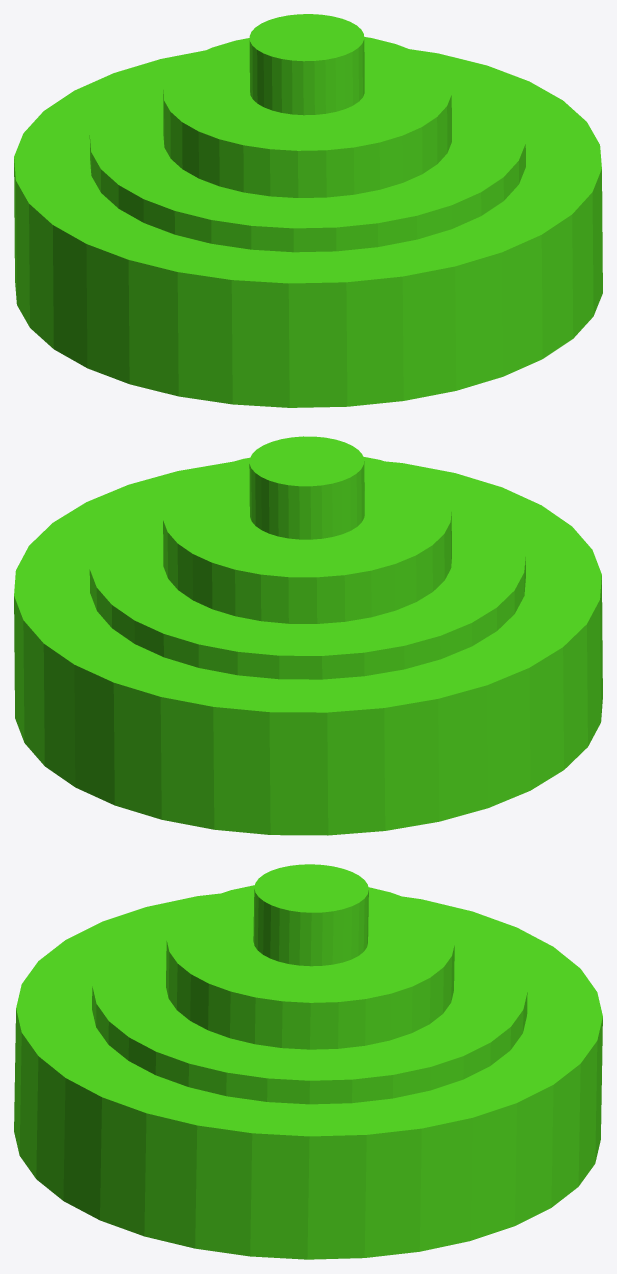
The model's file is Diana.fbx.
The picture shows the model from 3 angles, top to bottom: view 1: azimuth 30°, elevation 25°; view 2: azimuth 150°, elevation 25°; view 3: azimuth 270°, elevation 25°; orthographic projection.
Parts seen in each view (by area): view 1: Circle; view 2: Circle; view 3: Circle.
Boxes of the visible parts, x1=… form: Circle: x1=14, y1=14, x2=602, y2=407; Circle: x1=14, y1=436, x2=602, y2=835; Circle: x1=14, y1=864, x2=602, y2=1259.
Size of the model in its own units: 2.01 by 0.9473 by 2.
